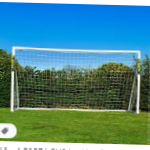goals: (10, 45, 142, 116)
